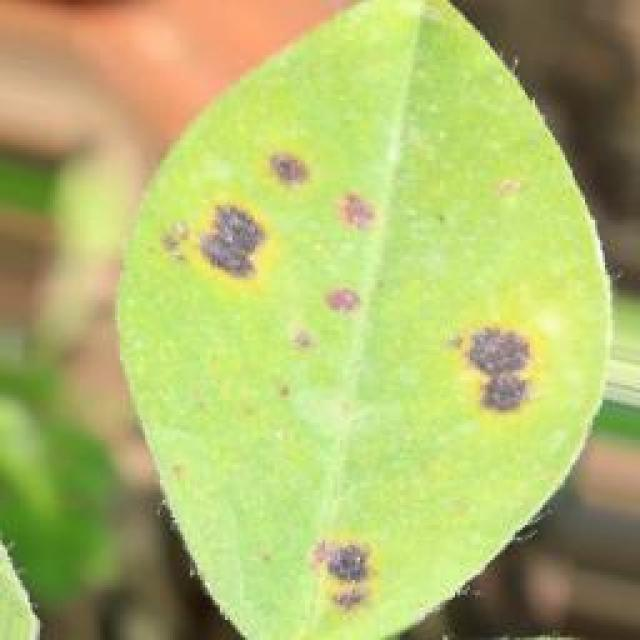Yellowish: (61, 50, 638, 640)
